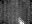person: (19, 15, 25, 24)
